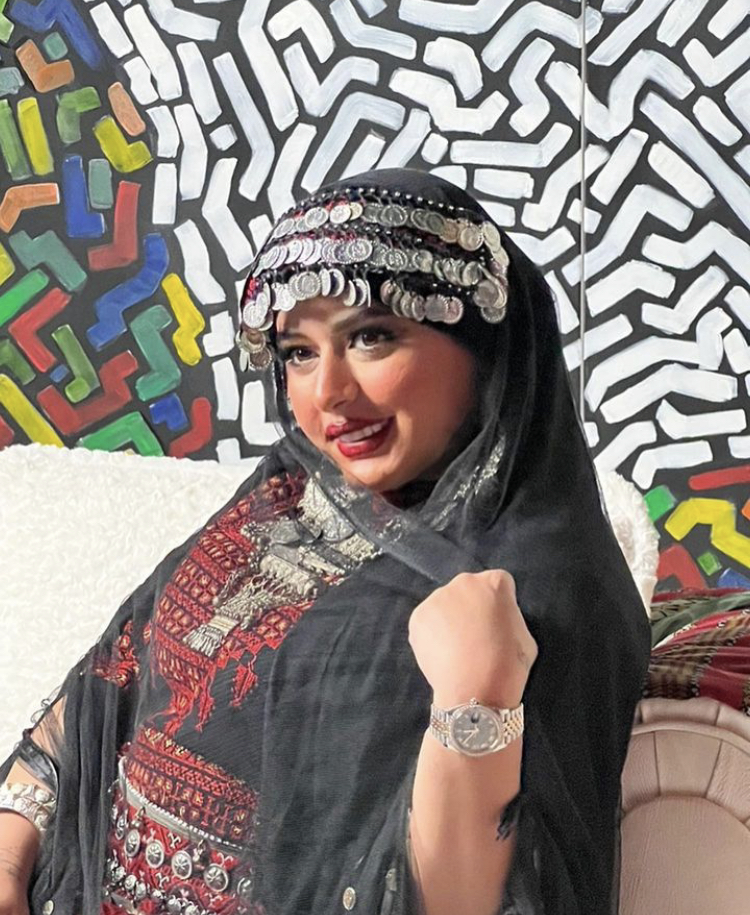Saudi_Founding_Day: (1, 165, 654, 915)
